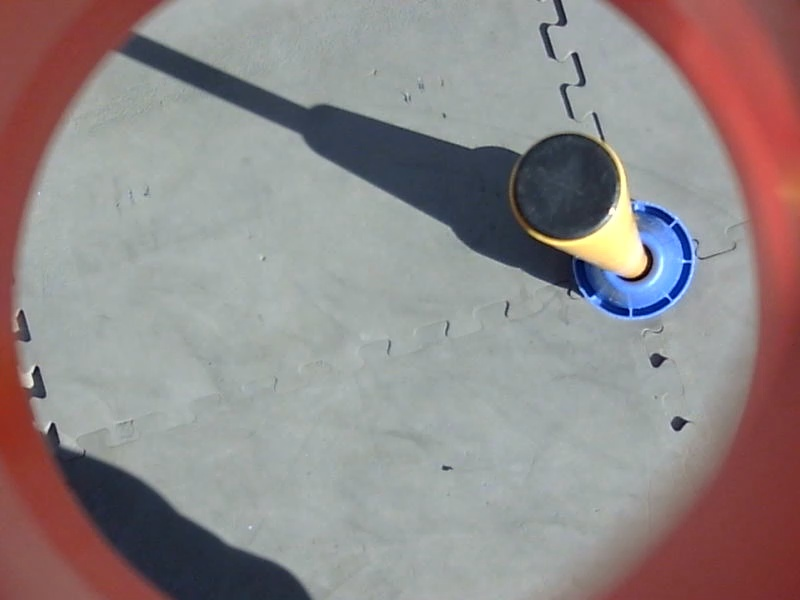tip: (503, 127, 628, 250)
